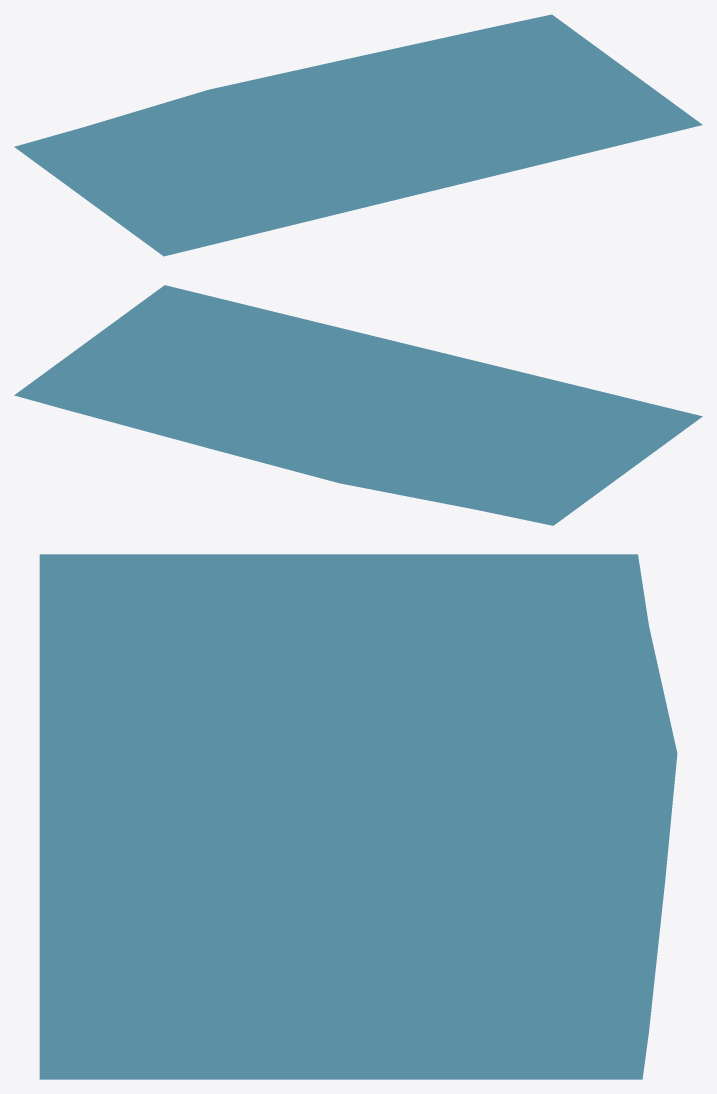
Rendered from nature_18_-3.glb.
The picture shows the model from 3 angles, top to bottom: view 1: azimuth 30°, elevation 25°; view 2: azimuth 150°, elevation 25°; view 3: azimuth 270°, elevation 25°; orthographic projection. The views are drawn at different scales.
Visible parts, largest first — view 1: water; view 2: water; view 3: water.
Boxes of the visible parts, box(x1,y1,x2,y2) form: water: box(14, 14, 702, 256); water: box(14, 285, 702, 525); water: box(39, 554, 677, 1079).
Size of the model in its own units: 250 by 0 by 128.
